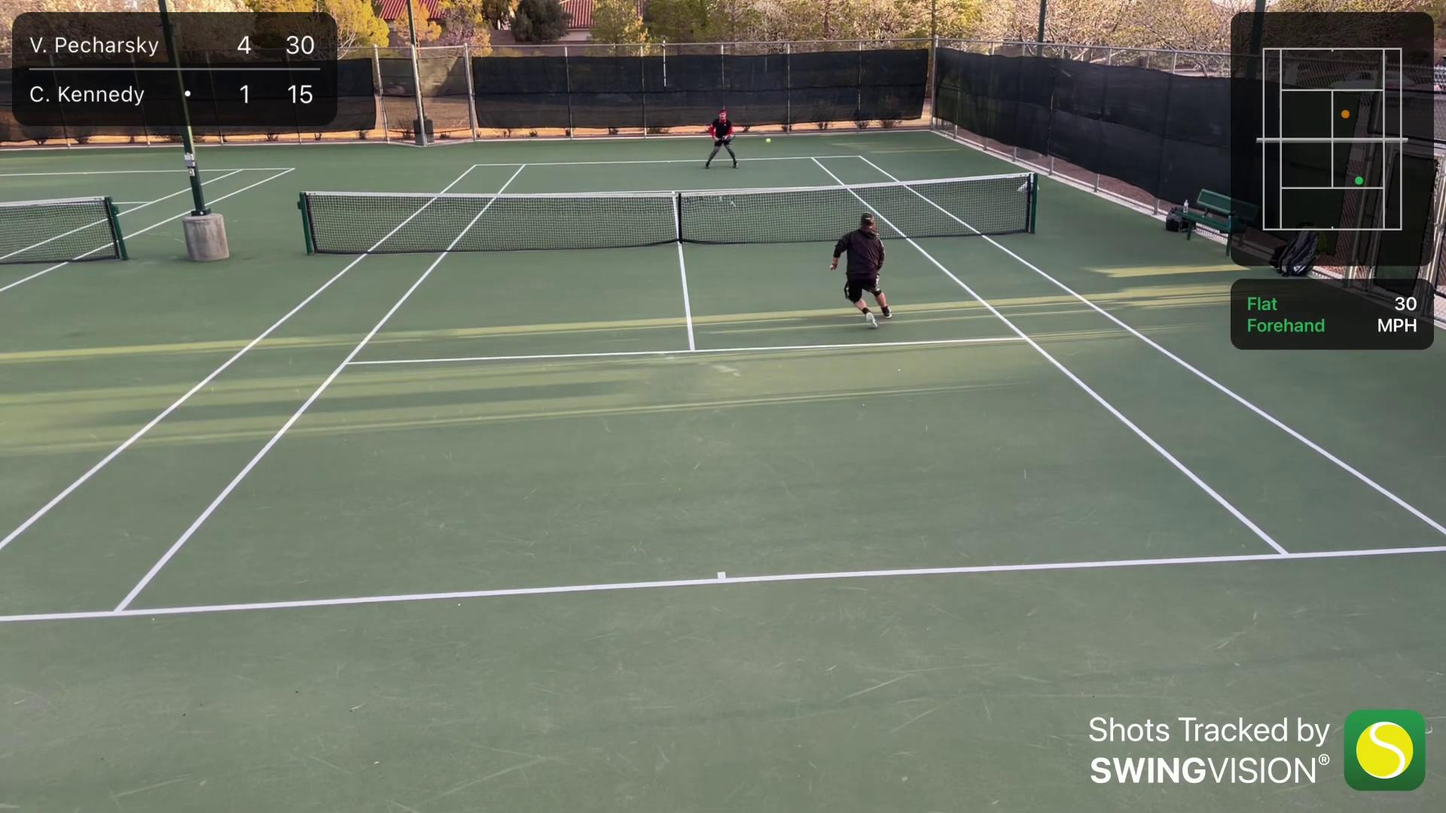ball: (764, 136, 771, 144)
